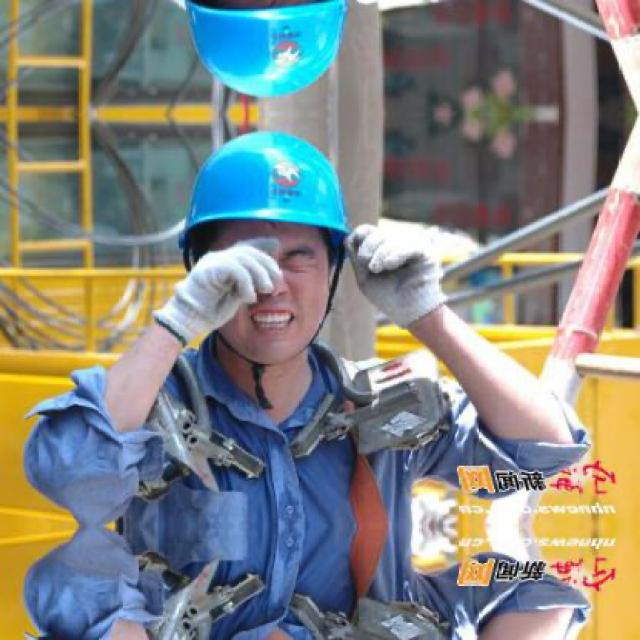helmet: (166, 114, 374, 367), (167, 0, 376, 116)
